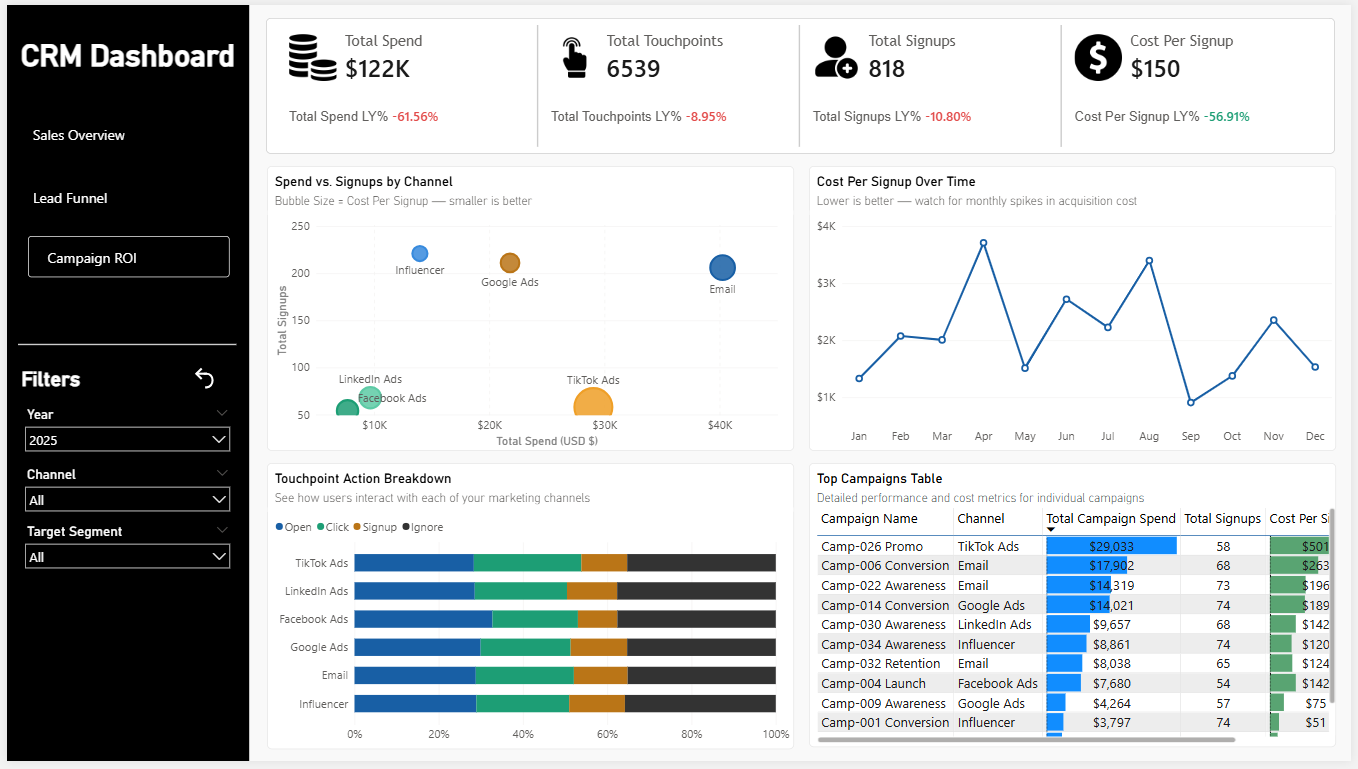

The page's visual inventory and layout, read from the dashboard file:
{"tool":"powerbi","page":{"name":"Campaign ROI","canvas":[1920,1080],"ordinal":2},"visuals":[{"type":"scatterChart","title":"Spend vs. Signups by Channel","fields":{"X":["_measures.Total Campaign Spend"],"Y":["_measures.Total Signups"],"Series":["ecom_marketing_campaigns.channel"],"Size":["_measures.Cost Per Signup"]},"box":[371.4,230,752.9,407.1],"z":0},{"type":"cardVisual","title":"s","fields":{"Data":["_measures.Total Campaign Spend","_measures.Total Touchpoints","_measures.Total Signups","_measures.Cost Per Signup"]},"box":[370,18.6,1527.1,194.3],"z":1000},{"type":"shape","box":[0,0,345.7,1080],"z":2000},{"type":"hundredPercentStackedBarChart","title":"Touchpoint Action Breakdown","fields":{"Category":["ecom_marketing_campaigns.channel"],"Y":["CountNonNull(ecom_campaign_touchpoints.touch_id)"],"Series":["ecom_campaign_touchpoints.action"]},"box":[371.4,654.3,752.9,408.6],"z":3000},{"type":"slicer","fields":{"Values":["DateTable.Year"]},"box":[16,569.3,312.6,85.1],"z":4000},{"type":"slicer","fields":{"Values":["ecom_marketing_campaigns.target_segment"]},"box":[15.7,735.7,312.9,78.6],"z":5000},{"type":"slicer","fields":{"Values":["ecom_marketing_campaigns.channel"]},"box":[15.7,654.3,312.9,81.4],"z":6000},{"type":"tableEx","title":"Top Campaigns Table","fields":{"Values":["ecom_marketing_campaigns.campaign_name","ecom_marketing_campaigns.channel","_measures.Total Campaign Spend","_measures.Total Signups","_measures.Cost Per Signup","_measures.Signup Rate"]},"box":[1145.7,654.3,752.9,405.7],"z":7000},{"type":"shape","box":[15.4,449.2,312.1,72.8],"z":8000},{"type":"textbox","box":[15.4,512.2,312.1,43.4],"z":9000},{"type":"actionButton","box":[29.4,154.4,288.3,58.8],"z":10000},{"type":"actionButton","box":[29.4,243.9,288.3,58.8],"z":11000},{"type":"actionButton","box":[29.4,329.3,288.3,58.8],"z":12000},{"type":"textbox","box":[0,42,345.7,64.4],"z":13000},{"type":"actionButton","box":[247.4,513.4,70.5,39.9],"z":14000},{"type":"lineChart","title":"Cost Per Signup Over Time","fields":{"Y":["_measures.Cost Per Signup"],"Category":["ecom_campaign_touchpoints.MonthName"]},"box":[1145.7,230,752.9,407.1],"z":15000}]}

Visuals, with their boxes on the page's 1920x1080 design canvas (x1, y1, x2, y2). These are canvas units, not pixel positions in the 1358x769 screenshot, which may show the page scaled, cropped or inside an application window:
"Spend vs. Signups by Channel" scatterChart: 371/230/1124/637
"s" cardVisual: 370/19/1897/213
shape: 0/0/346/1080
"Touchpoint Action Breakdown" hundredPercentStackedBarChart: 371/654/1124/1063
slicer - DateTable.Year: 16/569/329/654
slicer - ecom_marketing_campaigns.target_segment: 16/736/329/814
slicer - ecom_marketing_campaigns.channel: 16/654/329/736
"Top Campaigns Table" tableEx: 1146/654/1899/1060
shape: 15/449/328/522
textbox: 15/512/328/556
actionButton: 29/154/318/213
actionButton: 29/244/318/303
actionButton: 29/329/318/388
textbox: 0/42/346/106
actionButton: 247/513/318/553
"Cost Per Signup Over Time" lineChart: 1146/230/1899/637
